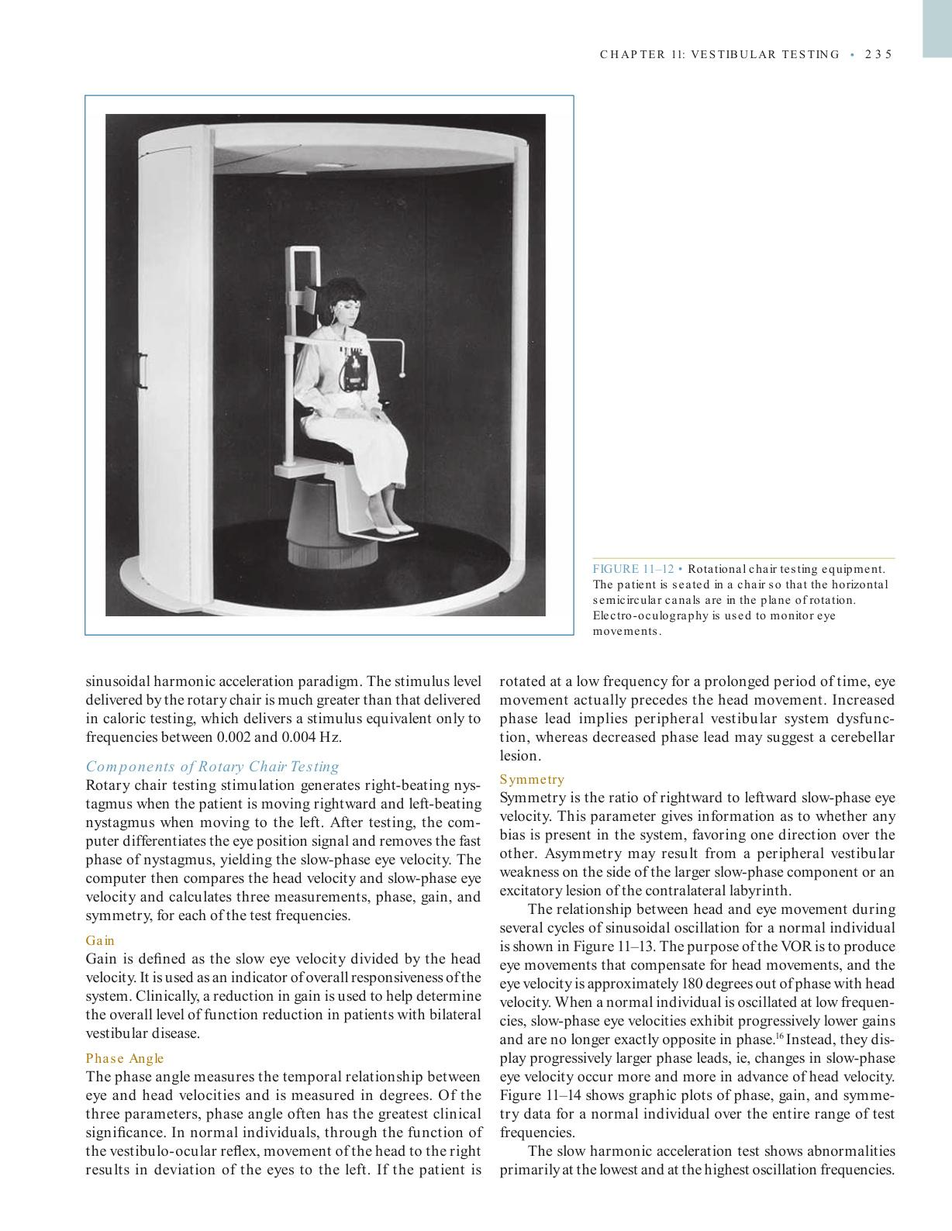caption: (591, 561, 890, 638)
header: (599, 49, 840, 60)
image: (90, 99, 559, 630)
section-heading: (85, 759, 341, 776)
sub-section-heading: (85, 1051, 165, 1067), (499, 773, 565, 788), (85, 933, 115, 948)
text: (499, 790, 896, 1180), (85, 777, 483, 925), (84, 1069, 486, 1179), (498, 673, 897, 763), (85, 951, 482, 1041), (84, 672, 484, 748)
